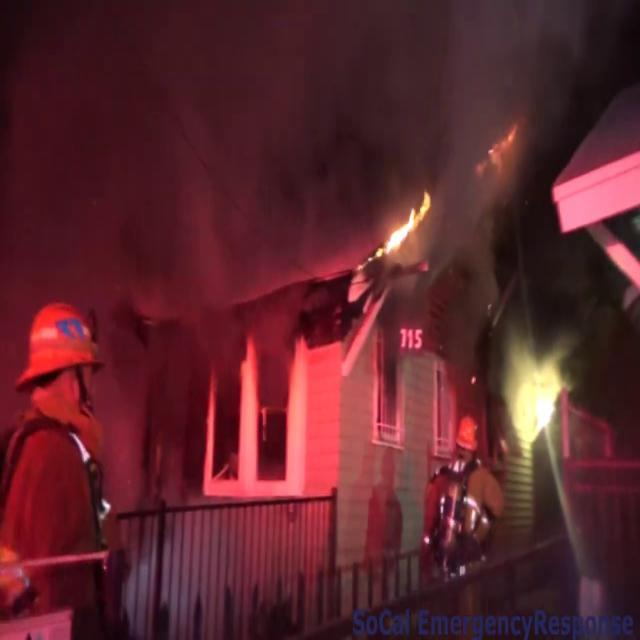Fire: (382, 182, 432, 264)
Smoke: (2, 0, 608, 317)
